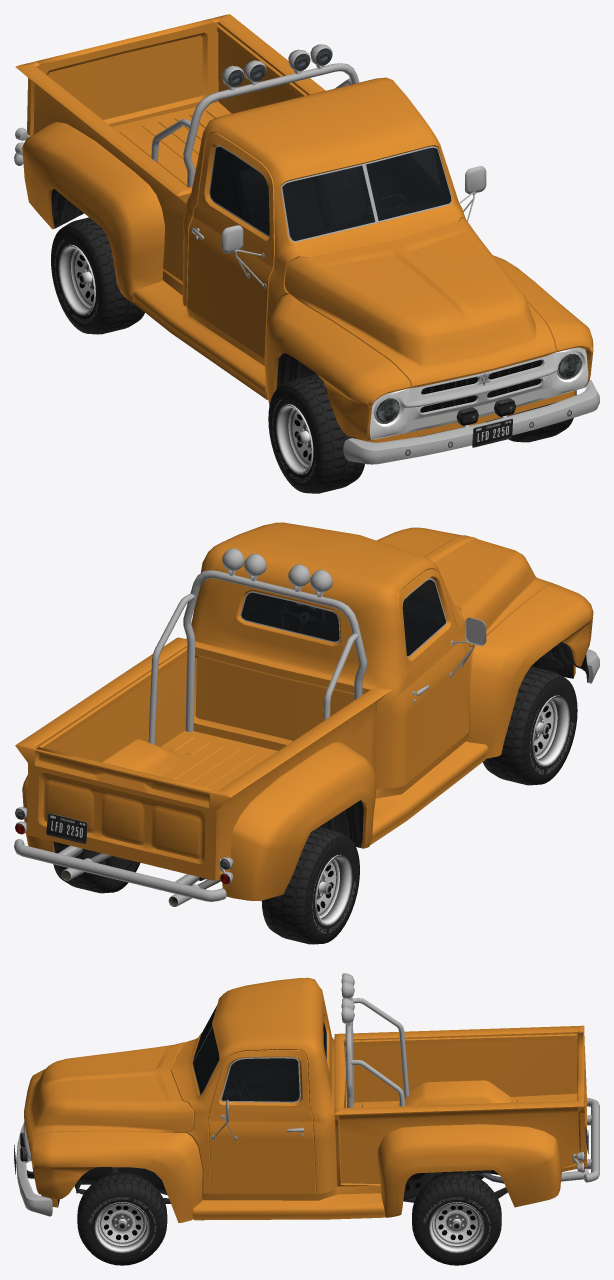
Rendered from rancher-80-lifted-low-poly-model-fbf176.glb.
The picture shows the model from 3 angles, top to bottom: view 1: azimuth 30°, elevation 25°; view 2: azimuth 150°, elevation 25°; view 3: azimuth 270°, elevation 25°; orthographic projection. The views are drawn at different scales.
Visible parts, largest first — view 1: body, wheel-front-right, wheel-back-right, wheel-front-left; view 2: body, wheel-back-right, wheel-front-right, wheel-back-left; view 3: body, wheel-back-left, wheel-front-left.
Part boxes in pixels (left/top/right/bottom): body: left=14, top=14, right=599, bottom=464; wheel-front-right: left=268, top=374, right=364, bottom=493; wheel-back-right: left=51, top=217, right=144, bottom=334; wheel-front-left: left=508, top=390, right=576, bottom=442; body: left=14, top=522, right=599, bottom=906; wheel-back-right: left=220, top=827, right=359, bottom=944; wheel-front-right: left=483, top=666, right=577, bottom=785; wheel-back-left: left=15, top=823, right=140, bottom=893; body: left=14, top=973, right=599, bottom=1222; wheel-back-left: left=412, top=1163, right=584, bottom=1265; wheel-front-left: left=77, top=1172, right=167, bottom=1265.
Size of the model in its own units: 1.97 by 2.14 by 4.95.
8 materials, 7 textured.
